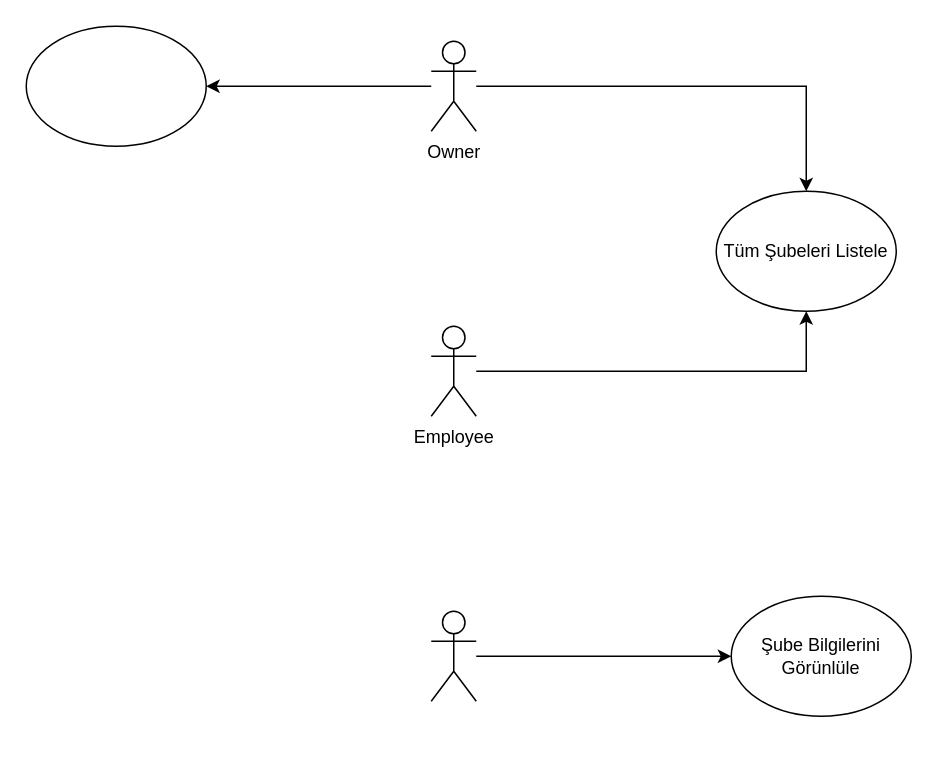
Image size: 938x759. Some labels were removed from this diagram. The shapes that lost their labels are listed below. From the top down, each one's box as (x1, y1, x2, y2) in pixels, then its label:
(25, 25, 206, 146): Şube Bilgilerini Düzenle
(430, 610, 476, 701): Customer
